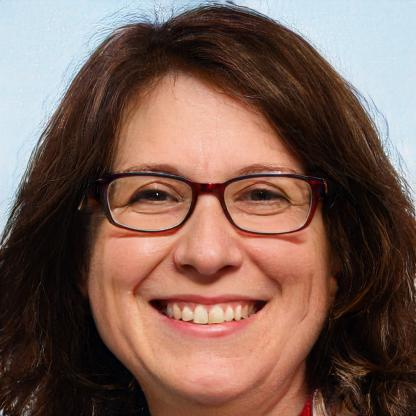glasses: (95, 169, 319, 238)
